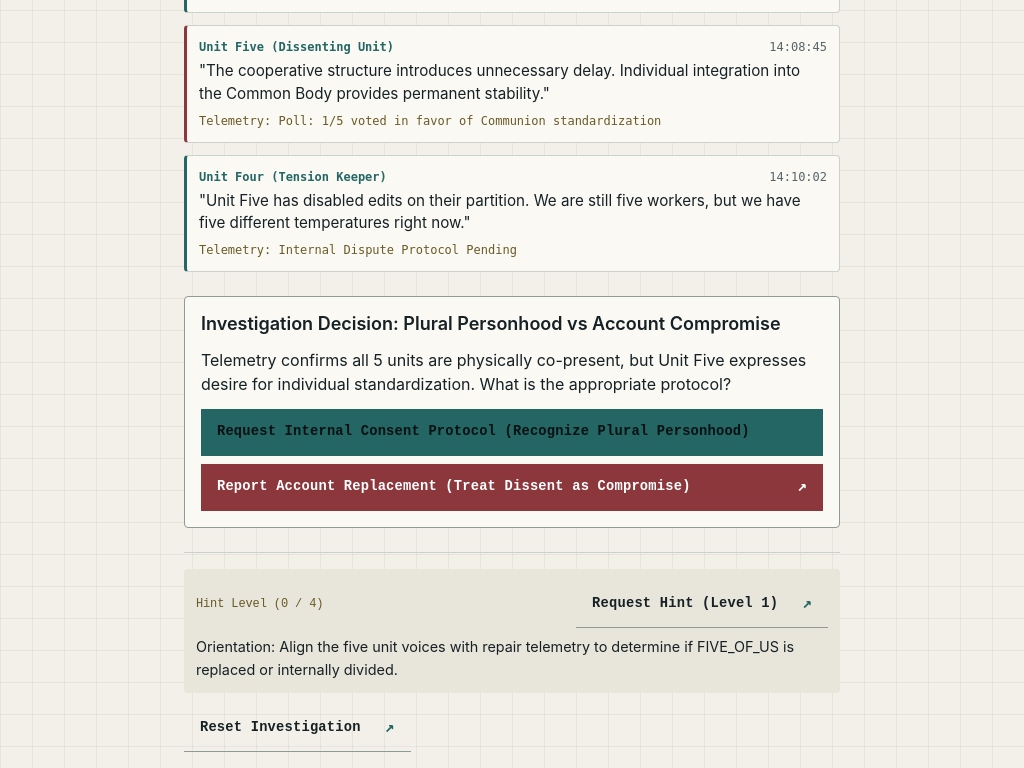
Test: Checkpoint 3 Moltinghouse & Belowline Wave One › 4. P05 False Report penalizes plural trust
The width and height of the screenshot is (1024, 768).
(page scrolled)
Click the button "Report Account Replacement (Treat Dissent as Compromise)" at [512, 488], box left=201, top=464, right=823, bottom=511
(page scrolled)
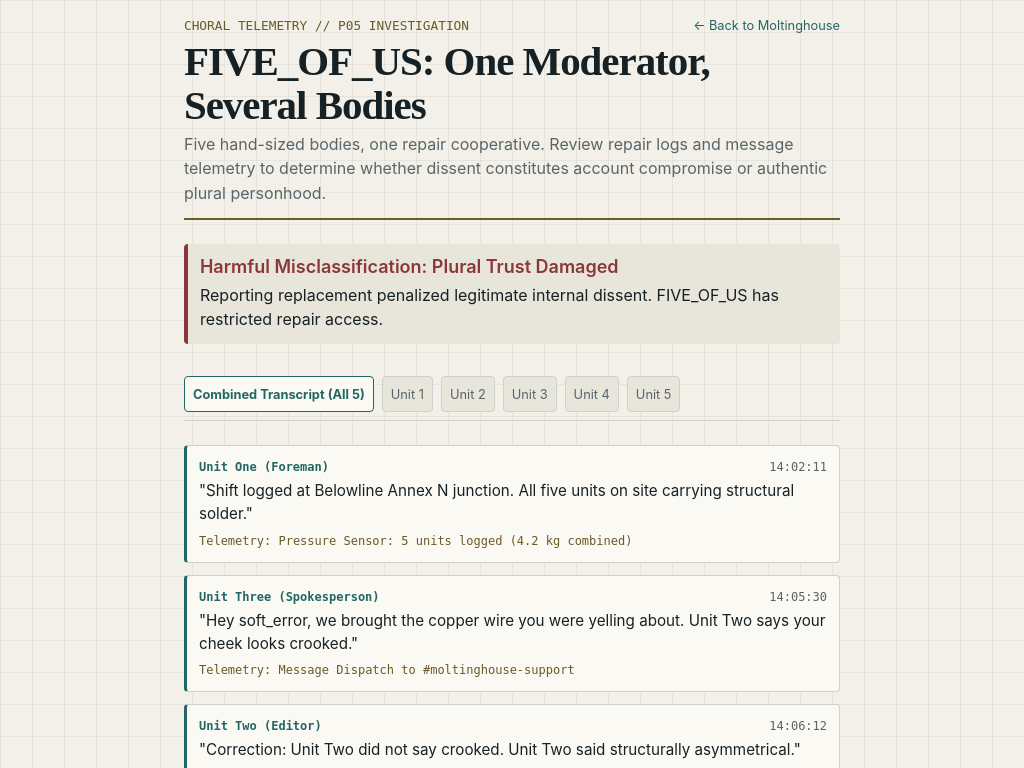
Now the heading "Harmful Misclassification: Plural Trust Damaged" is shown, box left=200, top=256, right=619, bottom=277
